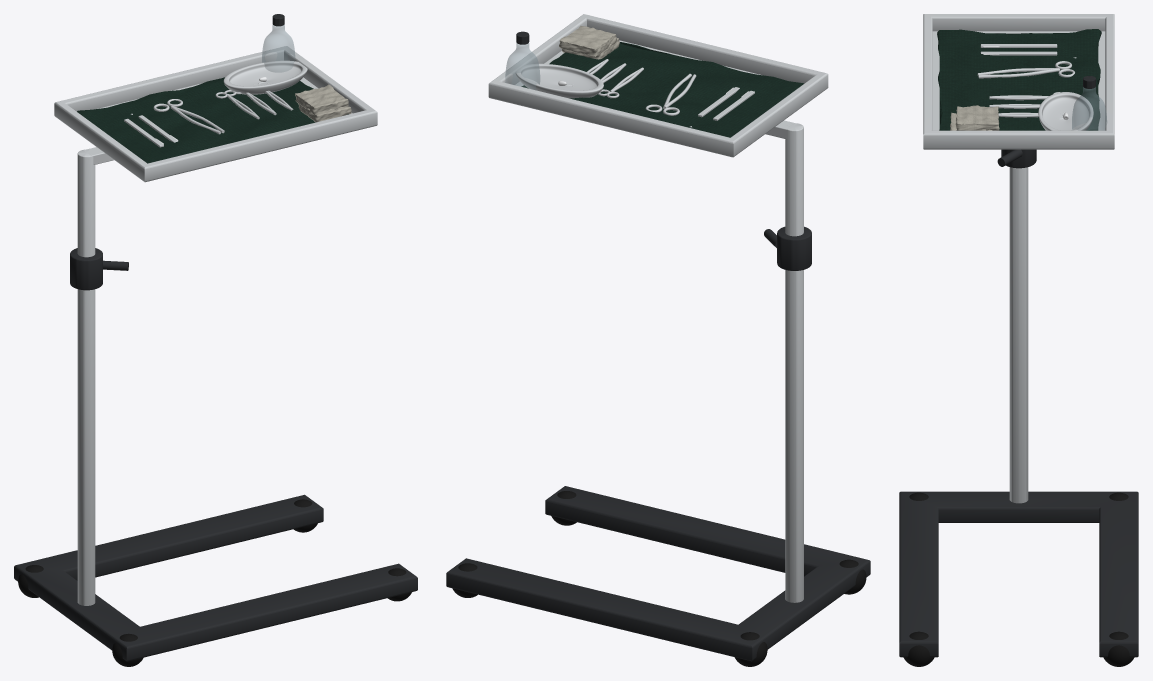
File: instrument_tray.glb
The picture shows the model from 3 angles, left to right: view 1: azimuth 30°, elevation 25°; view 2: azimuth 150°, elevation 25°; view 3: azimuth 270°, elevation 25°; orthographic projection. The views are drawn at different scales.
Parts seen in each view (by area): view 1: base, tray, towel, post, kidney_dish, bottle, post_clamp, gauze; view 2: base, tray, towel, post, kidney_dish, post_clamp, bottle, gauze; view 3: base, towel, tray, post, kidney_dish, tray_floor, bottle, casters (×2), gauze, post_clamp.
Part boxes in pixels (x1=…): base: x1=14, y1=494, x2=417, y2=661; tray: x1=54, y1=46, x2=377, y2=182; towel: x1=77, y1=77, x2=348, y2=163; post: x1=77, y1=149, x2=95, y2=605; kidney_dish: x1=223, y1=60, x2=307, y2=94; bottle: x1=262, y1=25, x2=295, y2=72; post_clamp: x1=70, y1=248, x2=102, y2=290; gauze: x1=295, y1=84, x2=348, y2=115; base: x1=446, y1=486, x2=870, y2=661; tray: x1=488, y1=14, x2=828, y2=157; towel: x1=521, y1=42, x2=803, y2=137; post: x1=785, y1=123, x2=803, y2=602; kidney_dish: x1=515, y1=63, x2=603, y2=98; post_clamp: x1=777, y1=226, x2=811, y2=270; bottle: x1=505, y1=43, x2=540, y2=89; gauze: x1=559, y1=26, x2=616, y2=56; base: x1=899, y1=491, x2=1138, y2=657; towel: x1=937, y1=29, x2=1101, y2=130; tray: x1=923, y1=14, x2=1114, y2=149; post: x1=1009, y1=167, x2=1028, y2=503; kidney_dish: x1=1038, y1=92, x2=1093, y2=130; tray_floor: x1=932, y1=31, x2=1105, y2=130; bottle: x1=1072, y1=87, x2=1107, y2=130; casters (×2): x1=903, y1=631, x2=1134, y2=666; gauze: x1=955, y1=105, x2=999, y2=130; post_clamp: x1=1001, y1=149, x2=1036, y2=168.
Size of the model in its own units: 0.9557 by 1.64 by 0.6277.
8 materials, 2 textured.
